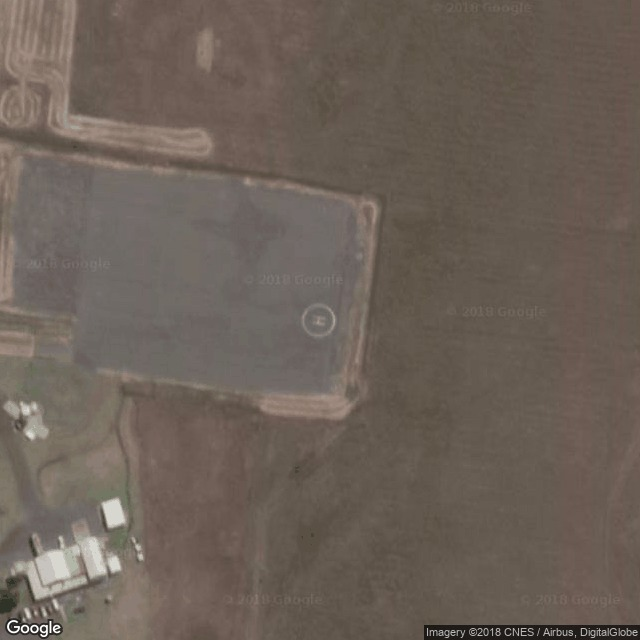heliport: (309, 312, 328, 329)
